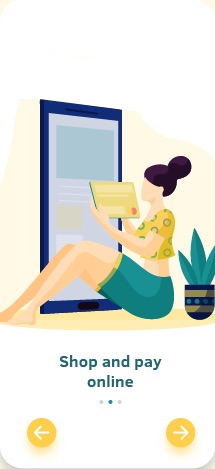Icon: (27, 417, 57, 448), (166, 418, 196, 448)
Image: (1, 99, 215, 331)
PageIndicator: (99, 399, 123, 405)
Text: (60, 354, 163, 388)
